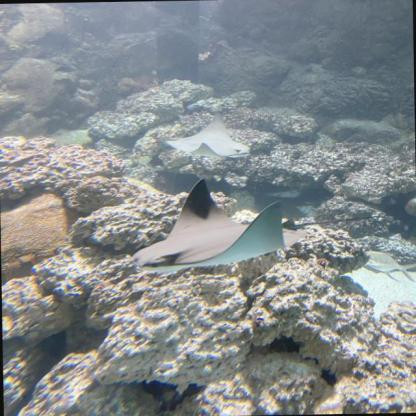fish: (355, 248, 415, 284)
stingray: (118, 173, 308, 275), (166, 109, 255, 163)
